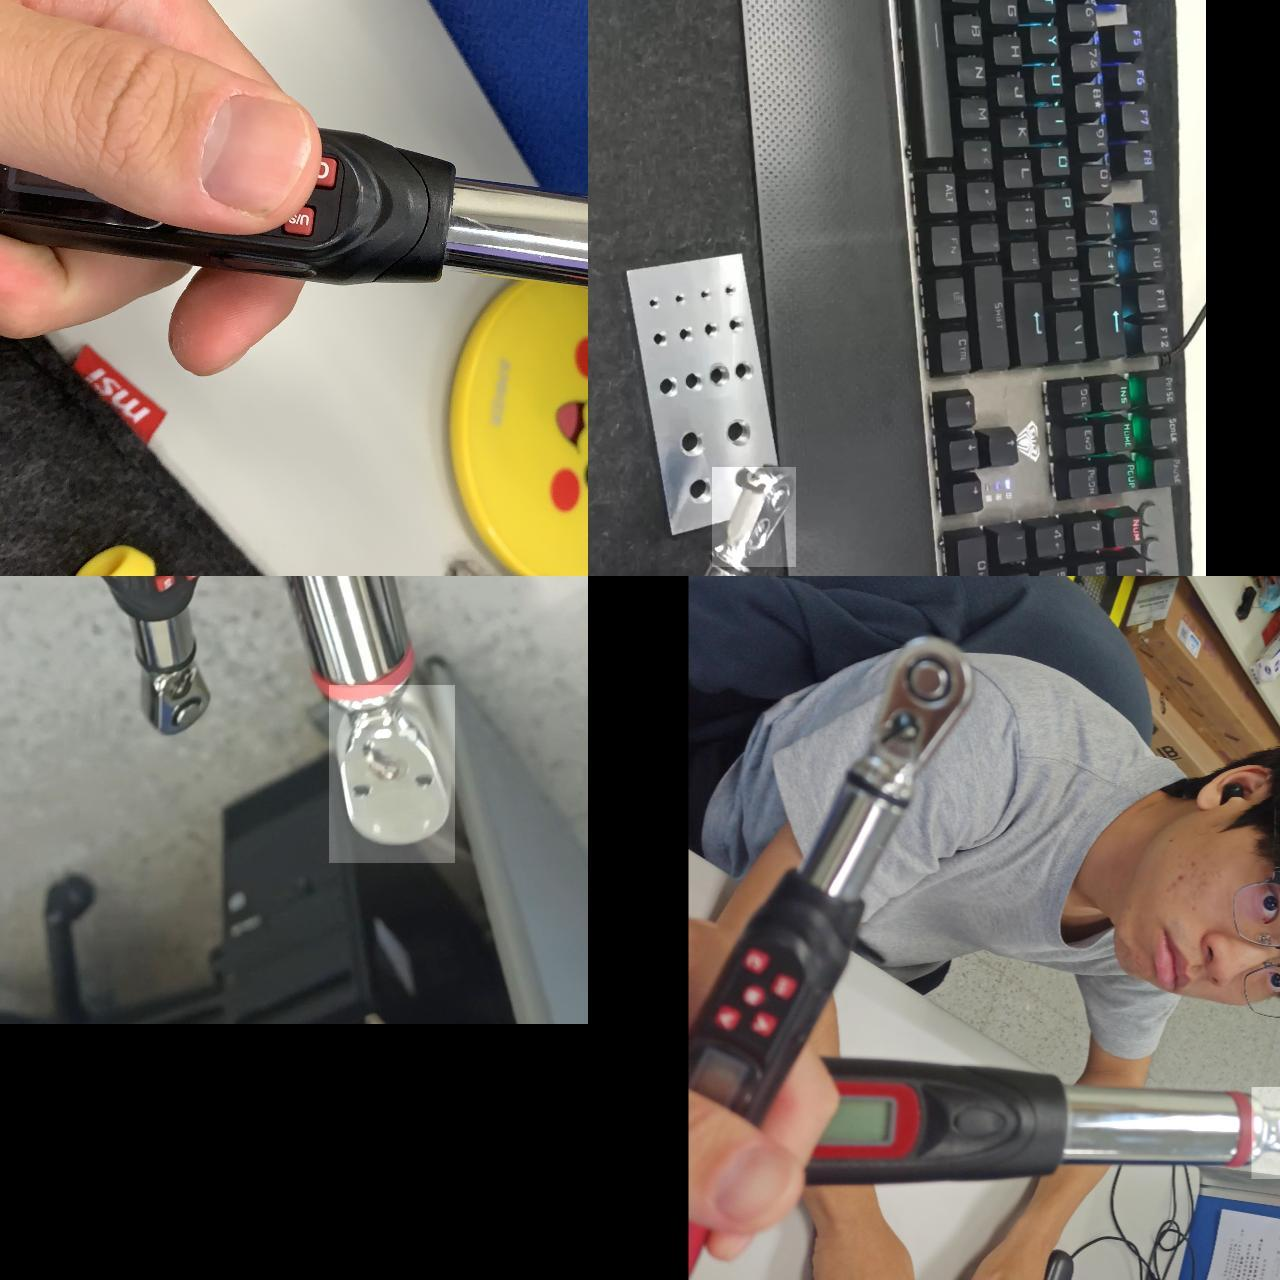Tool: (329, 685, 455, 862), (850, 631, 969, 787), (712, 467, 796, 566), (139, 660, 230, 742)
hole: (674, 427, 712, 462), (685, 468, 717, 503), (726, 420, 751, 457), (654, 374, 682, 400), (706, 361, 730, 390), (649, 332, 675, 354), (682, 370, 702, 393), (699, 321, 720, 341), (727, 316, 745, 338), (735, 361, 753, 383), (676, 328, 696, 346), (644, 294, 661, 314), (697, 288, 719, 302), (675, 293, 687, 309), (722, 286, 737, 295)
